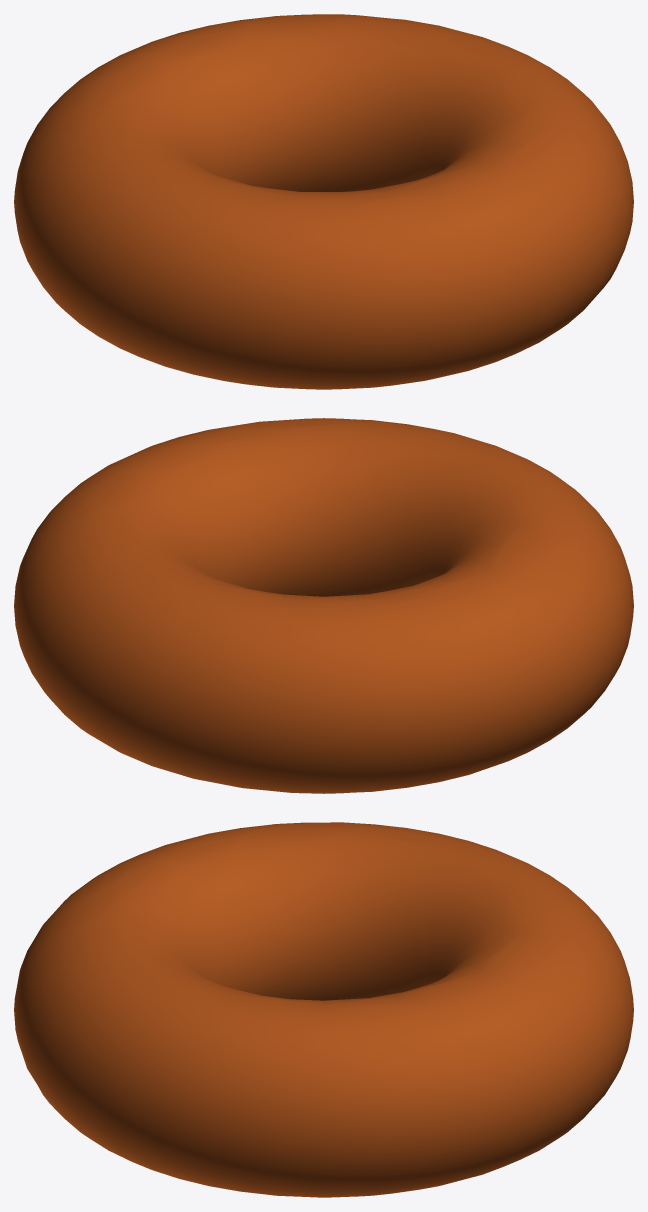
Rendered from donut-glazed.glb.
The picture shows the model from 3 angles, top to bottom: view 1: azimuth 30°, elevation 25°; view 2: azimuth 150°, elevation 25°; view 3: azimuth 270°, elevation 25°; orthographic projection.
Parts seen in each view (by area): view 1: Dough; view 2: Dough; view 3: Dough.
Part boxes in pixels (left/top/right/bottom): Dough: left=14, top=14, right=633, bottom=389; Dough: left=14, top=418, right=633, bottom=793; Dough: left=14, top=822, right=633, bottom=1197.
Size of the model in its own units: 0.88 by 0.28 by 0.88.
